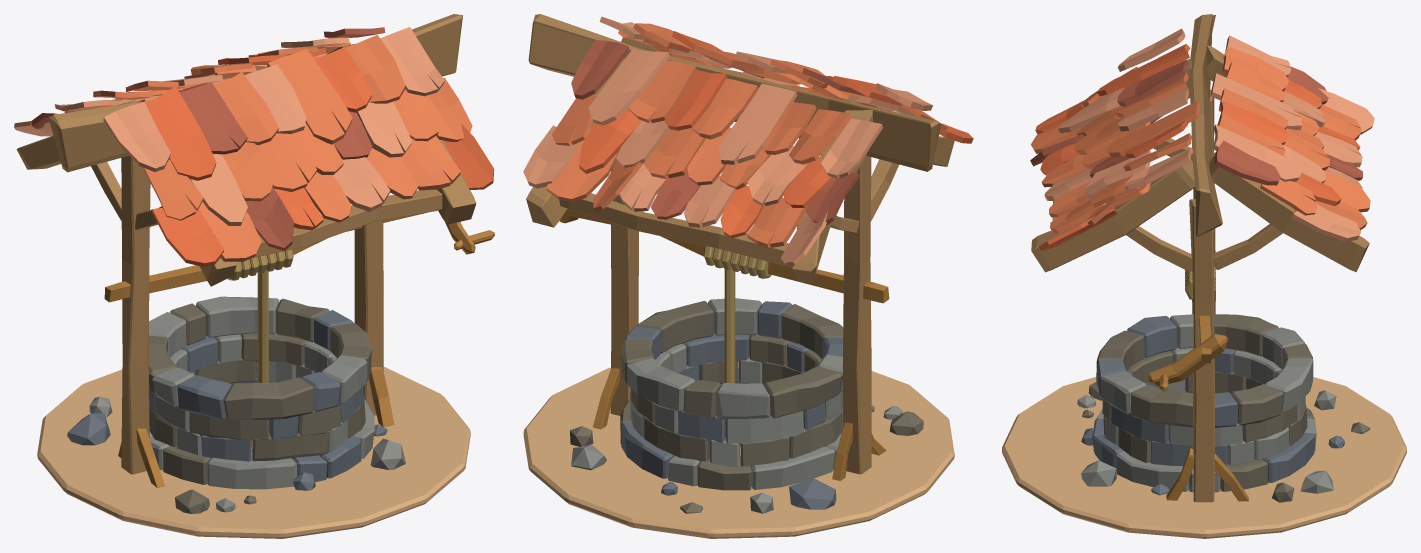
Rendered from low poly well2.fbx.
The picture shows the model from 3 angles, left to right: view 1: azimuth 30°, elevation 25°; view 2: azimuth 150°, elevation 25°; view 3: azimuth 270°, elevation 25°; orthographic projection. The views are drawn at different scales.
Visible parts, largest first — view 1: Cylinder; view 2: Cylinder; view 3: Cylinder.
Boxes of the visible parts, left/top/right/bottom form: Cylinder: left=14, top=14, right=494, bottom=538; Cylinder: left=523, top=14, right=973, bottom=538; Cylinder: left=1002, top=14, right=1406, bottom=538.
Size of the model in its own units: 3240 by 3002 by 2926.
